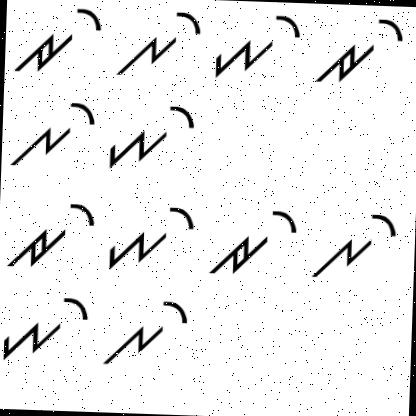lay: (112, 4, 204, 88), (309, 200, 399, 284), (102, 294, 194, 376), (13, 95, 98, 172)
ray: (311, 13, 406, 98), (9, 3, 104, 88), (208, 197, 300, 281), (5, 197, 96, 272)
yay: (103, 195, 200, 279), (1, 286, 91, 372), (102, 95, 196, 174), (210, 11, 304, 86)
